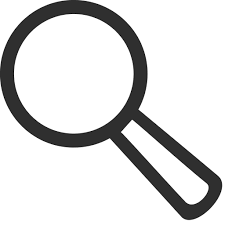searchIcon: (1, 1, 223, 220)
